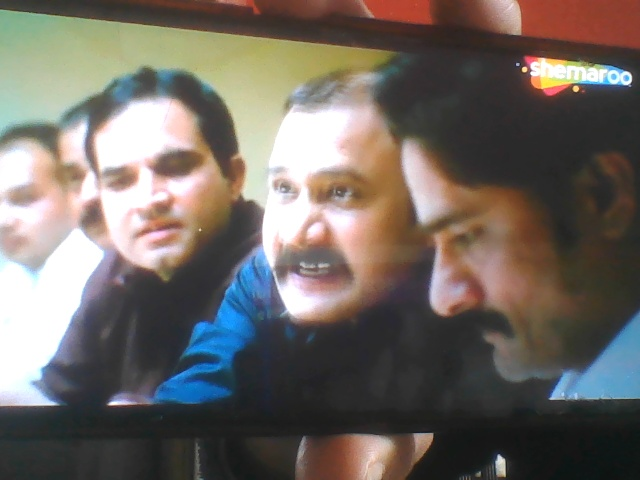fake: (398, 58, 627, 382), (238, 51, 440, 338), (84, 64, 240, 285)
